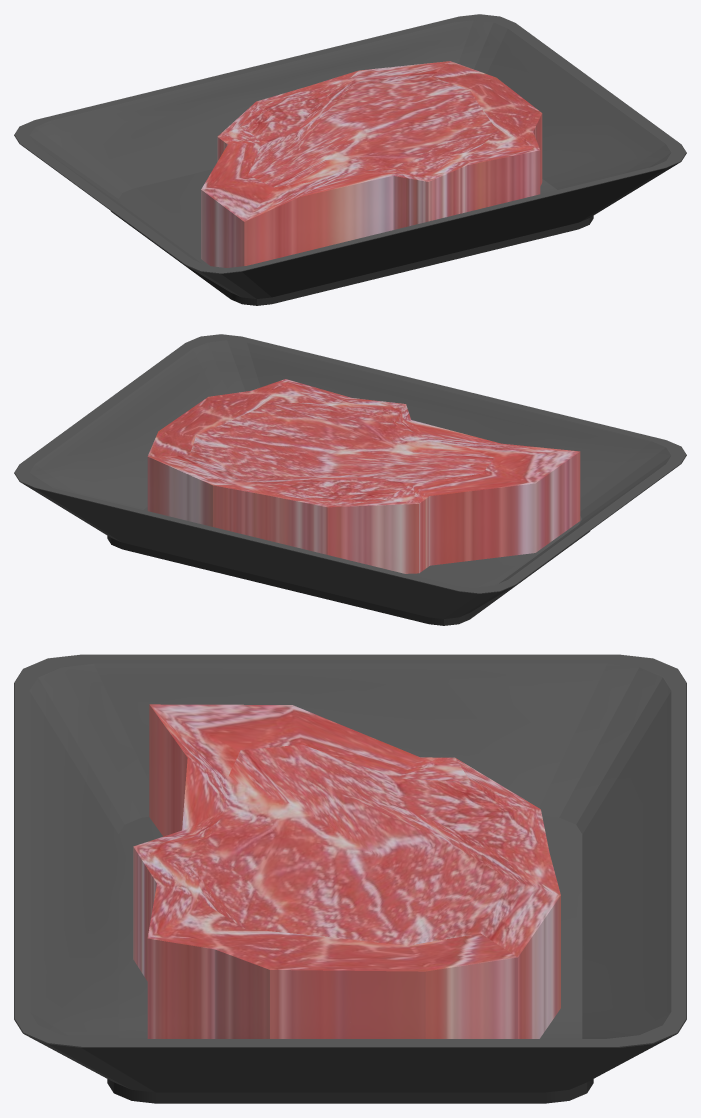
Rendered from packaged meat.fbx.
3 views of the same model, one above another, from view 1: azimuth 30°, elevation 25°; view 2: azimuth 150°, elevation 25°; view 3: azimuth 270°, elevation 25° (orthographic). The views are drawn at different scales.
Parts seen in each view (by area): view 1: polySurface2, polySurface1, pasted__pCube2; view 2: polySurface2, polySurface1, pasted__pCube2; view 3: polySurface2, polySurface1, pasted__pCube2.
Part boxes in pixels (bbox=[...]): polySurface2: bbox=[15, 14, 685, 272]; polySurface1: bbox=[14, 14, 686, 305]; pasted__pCube2: bbox=[201, 61, 542, 267]; polySurface2: bbox=[15, 334, 685, 592]; polySurface1: bbox=[14, 334, 686, 625]; pasted__pCube2: bbox=[147, 379, 580, 573]; polySurface2: bbox=[15, 654, 685, 1046]; polySurface1: bbox=[14, 654, 686, 1103]; pasted__pCube2: bbox=[133, 704, 560, 1038].
Size of the model in its own units: 3.27 by 0.5217 by 2.36.
3 materials, 1 textured.
